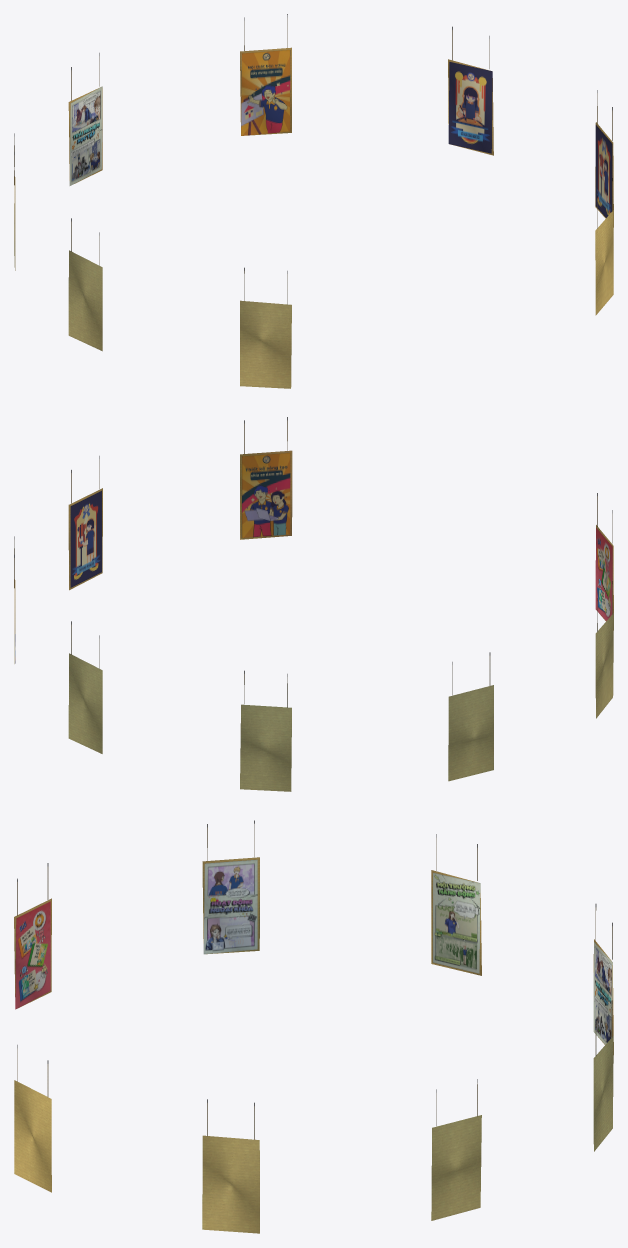
The model's file is HangingPicture_LOD1.glb.
The picture shows the model from 3 angles, top to bottom: view 1: azimuth 30°, elevation 25°; view 2: azimuth 150°, elevation 25°; view 3: azimuth 270°, elevation 25°; orthographic projection. The views are drawn at different scales.
Visible parts, largest first — view 1: Hanging Picture_PROCESSED.001_LOD1; view 2: Hanging Picture_PROCESSED.001_LOD1; view 3: Hanging Picture_PROCESSED.001_LOD1.
Boxes of the visible parts, bbox=[...] form: Hanging Picture_PROCESSED.001_LOD1: bbox=[14, 14, 613, 388]; Hanging Picture_PROCESSED.001_LOD1: bbox=[14, 417, 613, 791]; Hanging Picture_PROCESSED.001_LOD1: bbox=[14, 820, 613, 1233].
Size of the model in its own units: 23 by 4.96 by 20.6.
1 material, 1 textured.
